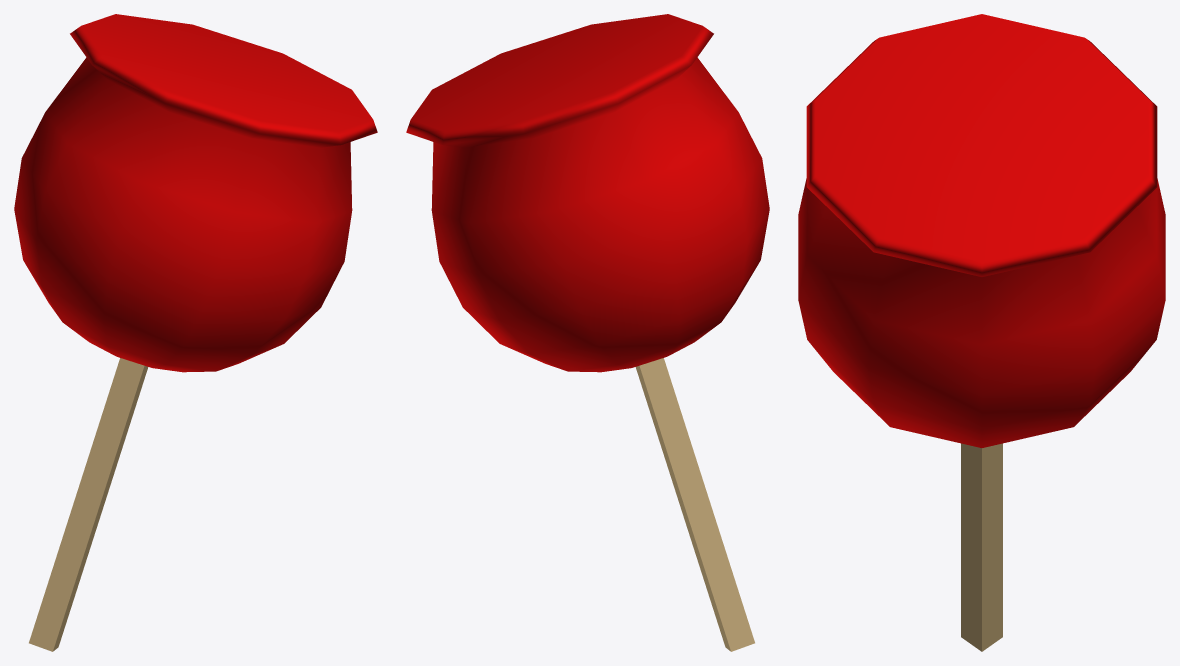
Rendered from apple10.17.fbx.
The picture shows the model from 3 angles, left to right: view 1: azimuth 30°, elevation 25°; view 2: azimuth 150°, elevation 25°; view 3: azimuth 270°, elevation 25°; orthographic projection. The views are drawn at different scales.
Parts seen in each view (by area): view 1: pSphere1, pCylinder1; view 2: pSphere1, pCylinder1; view 3: pSphere1, pCylinder1.
Boxes of the visible parts, box(x1,y1,x2,y2) form: pSphere1: box(14, 14, 377, 372); pCylinder1: box(29, 358, 148, 651); pSphere1: box(406, 14, 769, 372); pCylinder1: box(635, 358, 754, 651); pSphere1: box(798, 14, 1165, 447); pCylinder1: box(961, 443, 1002, 651).
Size of the model in its own units: 31.56 by 53.63 by 26.97.
